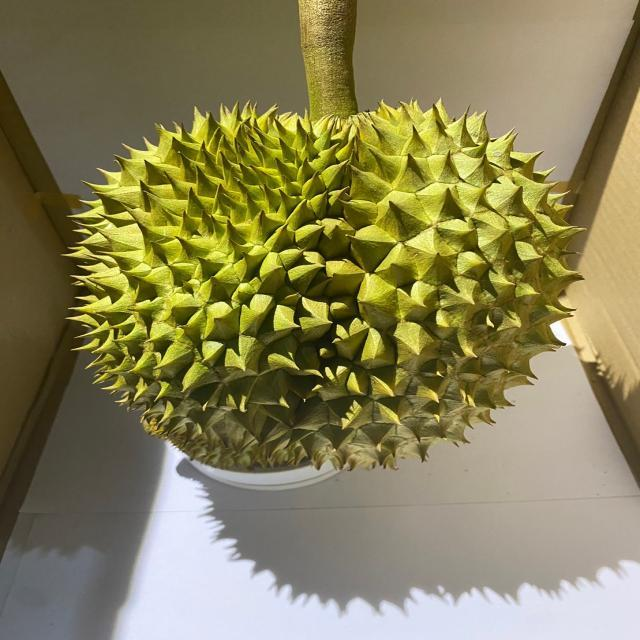immature: (63, 97, 586, 473)
